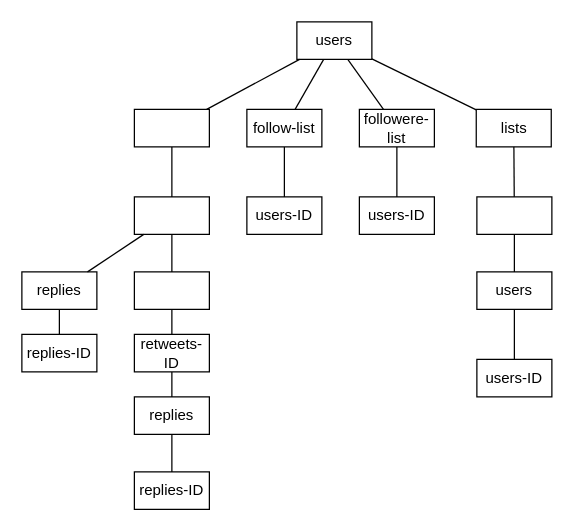
Image size: 574x531. Some labels were removed from this diagram. The centre of each missing label's shape, as x and y in pixels:
"lists-ID" belongs at (x=514, y=215).
"retweets" belongs at (x=171, y=290).
"tweets" belongs at (x=171, y=127).
"tweets-ID" belongs at (x=171, y=215).
